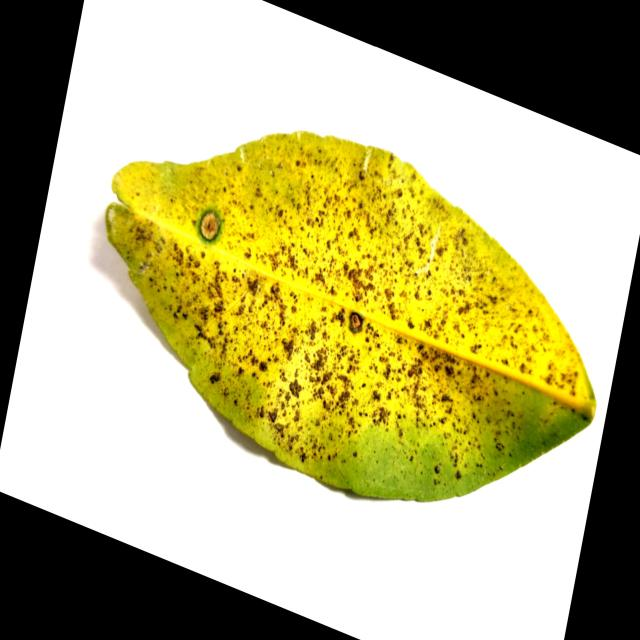melanose: (106, 133, 596, 501)
